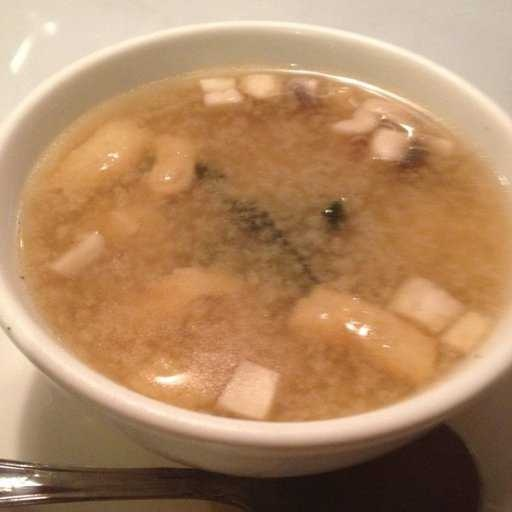soup: (24, 81, 495, 427)
